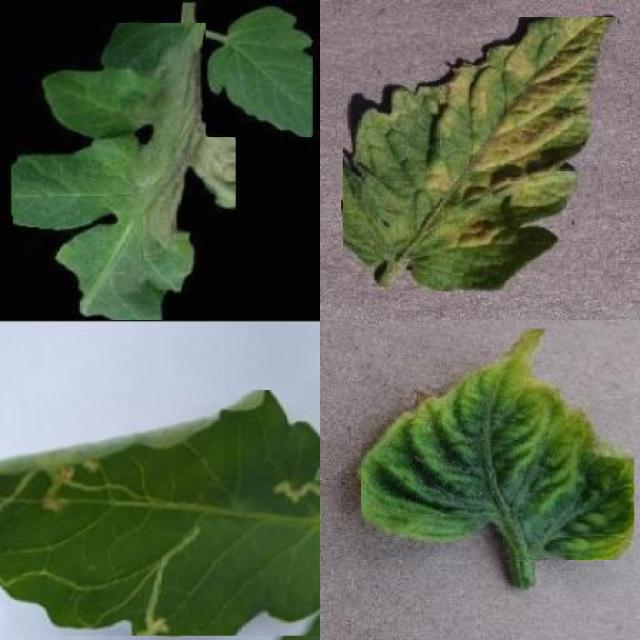Healthy: (205, 7, 312, 137)
Late Blight: (13, 23, 236, 320)
Leaf Miner: (0, 390, 320, 636)
Leaf Mold: (342, 17, 618, 292)
Yellow Leaf Curl Virus: (360, 329, 634, 561)
